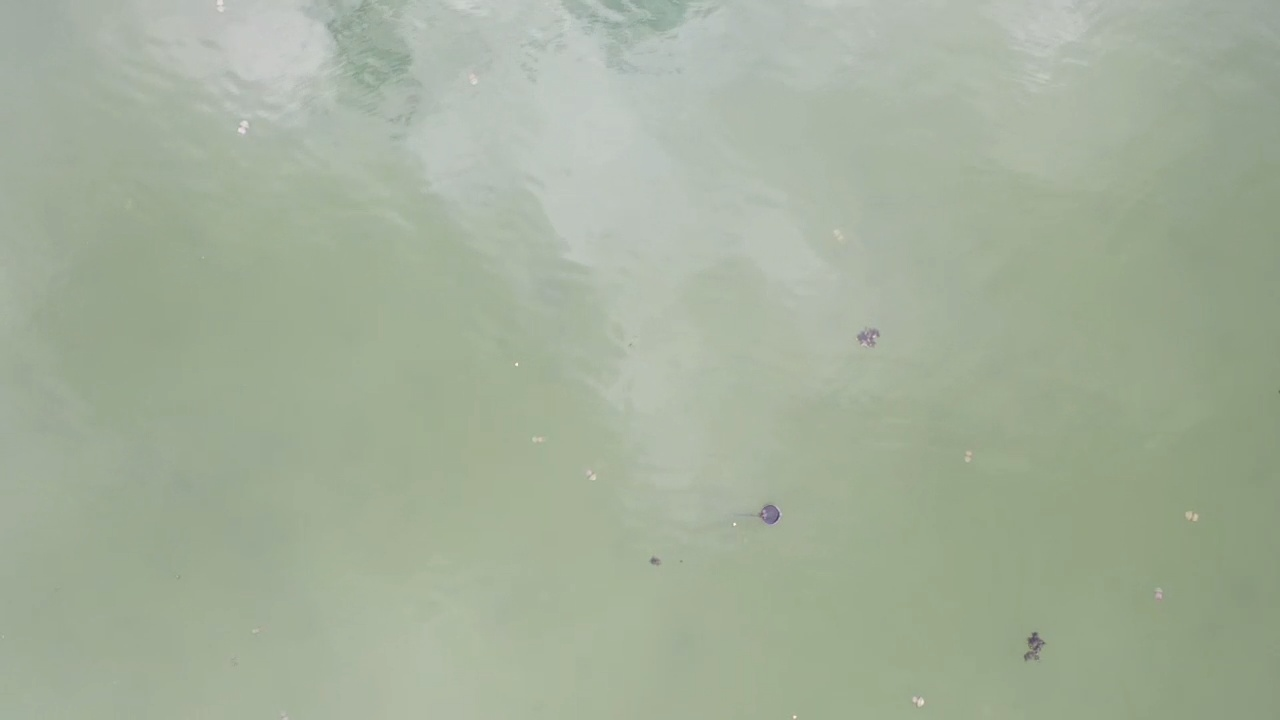meduse: (235, 121, 252, 135), (832, 227, 845, 242), (532, 431, 545, 444), (912, 695, 926, 707), (1185, 510, 1199, 522), (214, 1, 226, 15), (468, 74, 480, 86), (586, 471, 600, 481), (1153, 587, 1164, 599), (962, 451, 974, 461), (279, 710, 290, 720), (251, 627, 261, 635)
